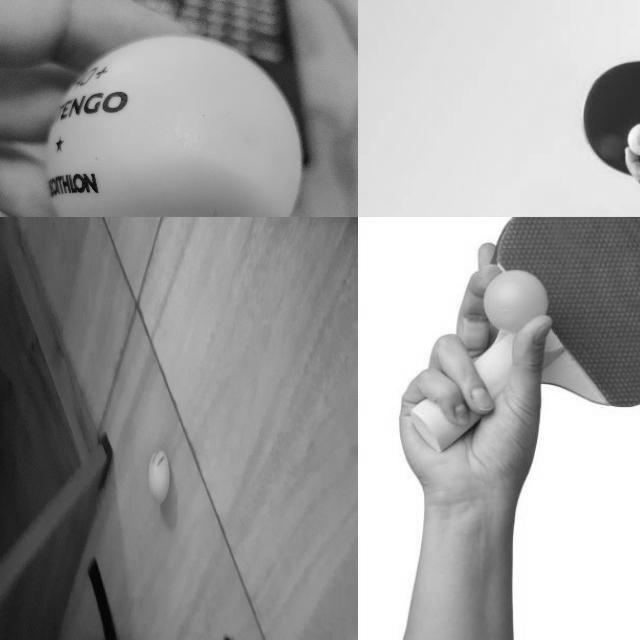ping-pong-ball: (47, 37, 302, 216), (484, 270, 548, 332), (148, 450, 170, 503), (627, 121, 639, 155)
